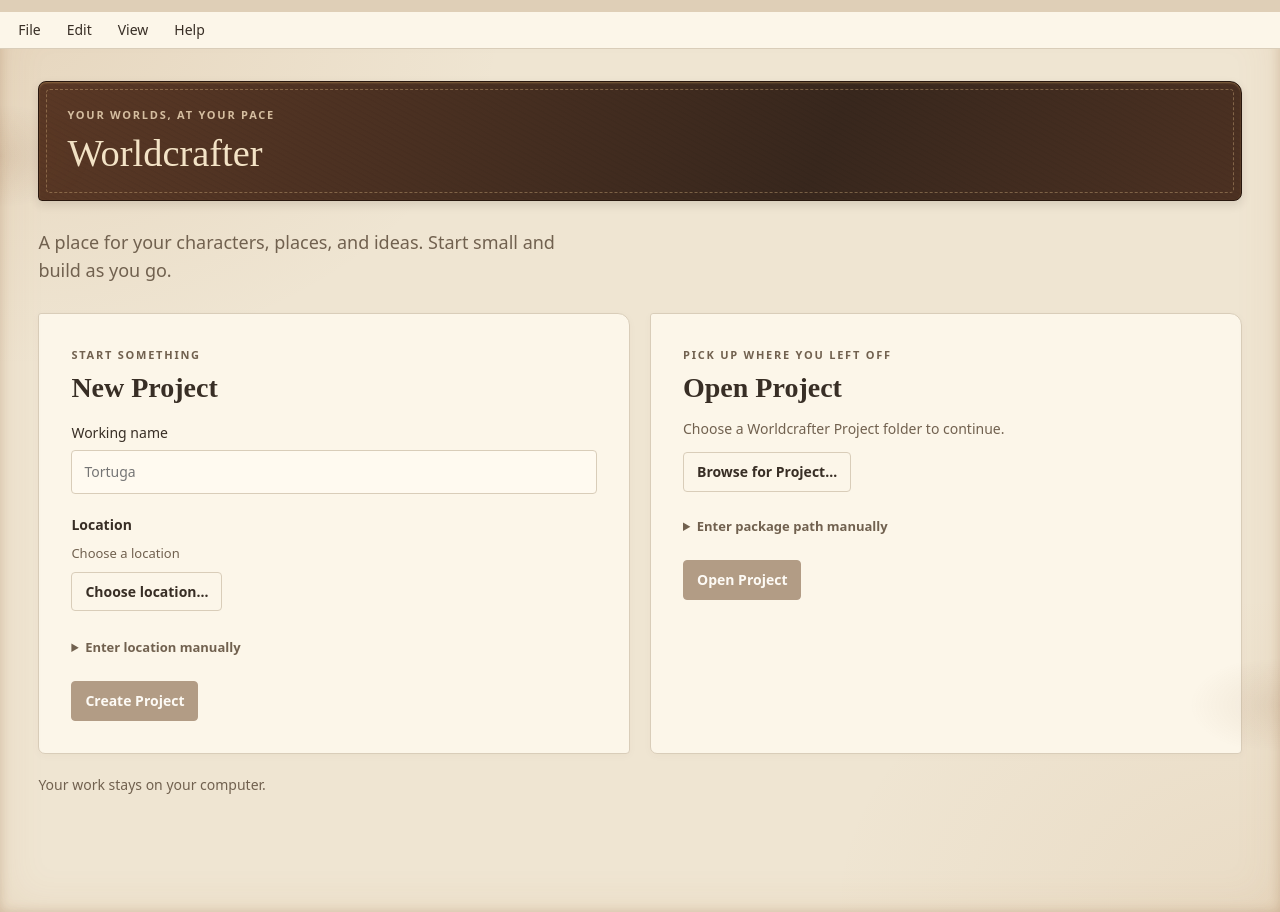
Scenario: Project screen Saved contract › keeps Close Project at the bottom of the menu, hidden until opened
Click the heading "Enter package path manually": (792, 526) [697,517,888,535]
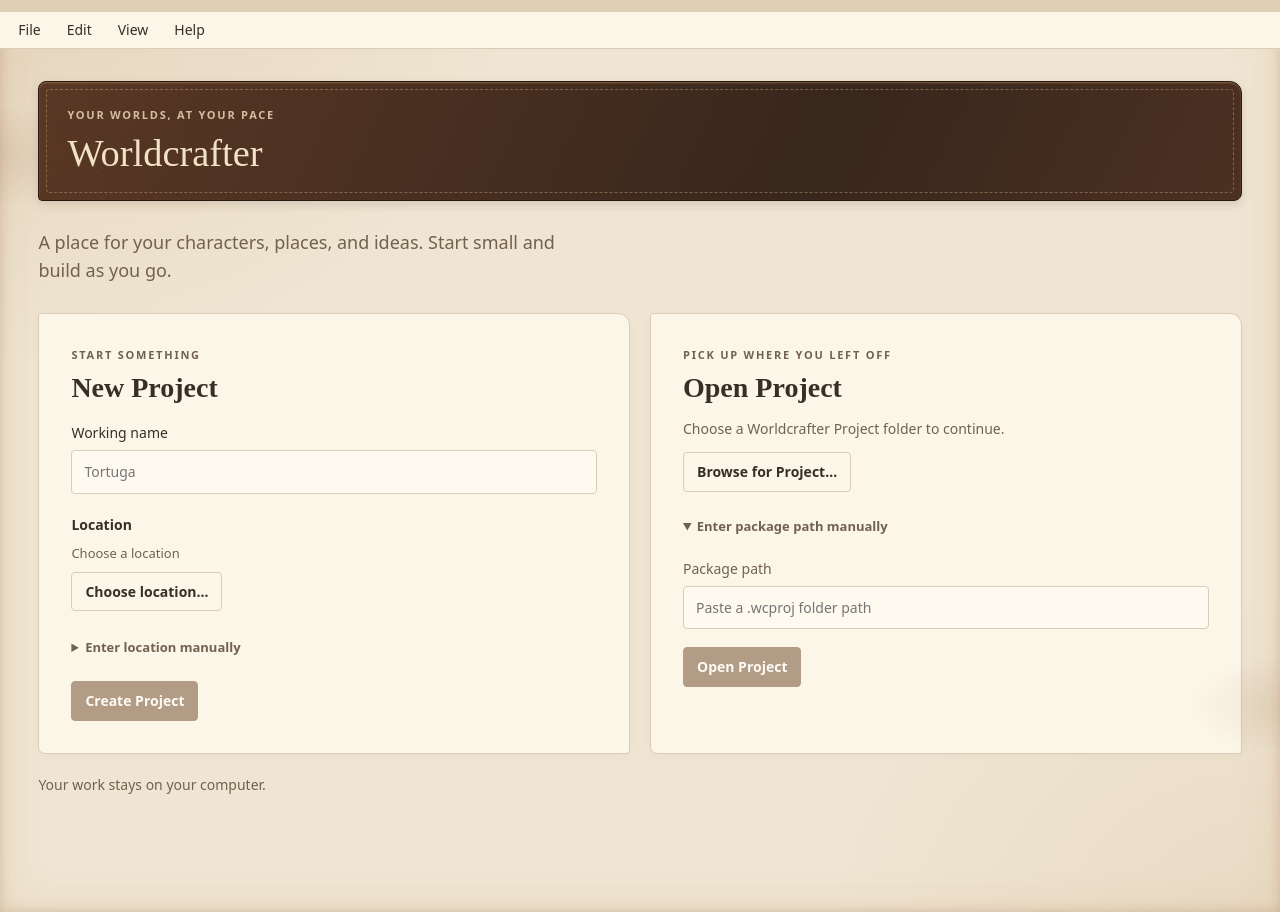
In the field named "open-project-path": (946, 607) [683,586,1209,629], type "/tmp/Tortuga.wcproj"
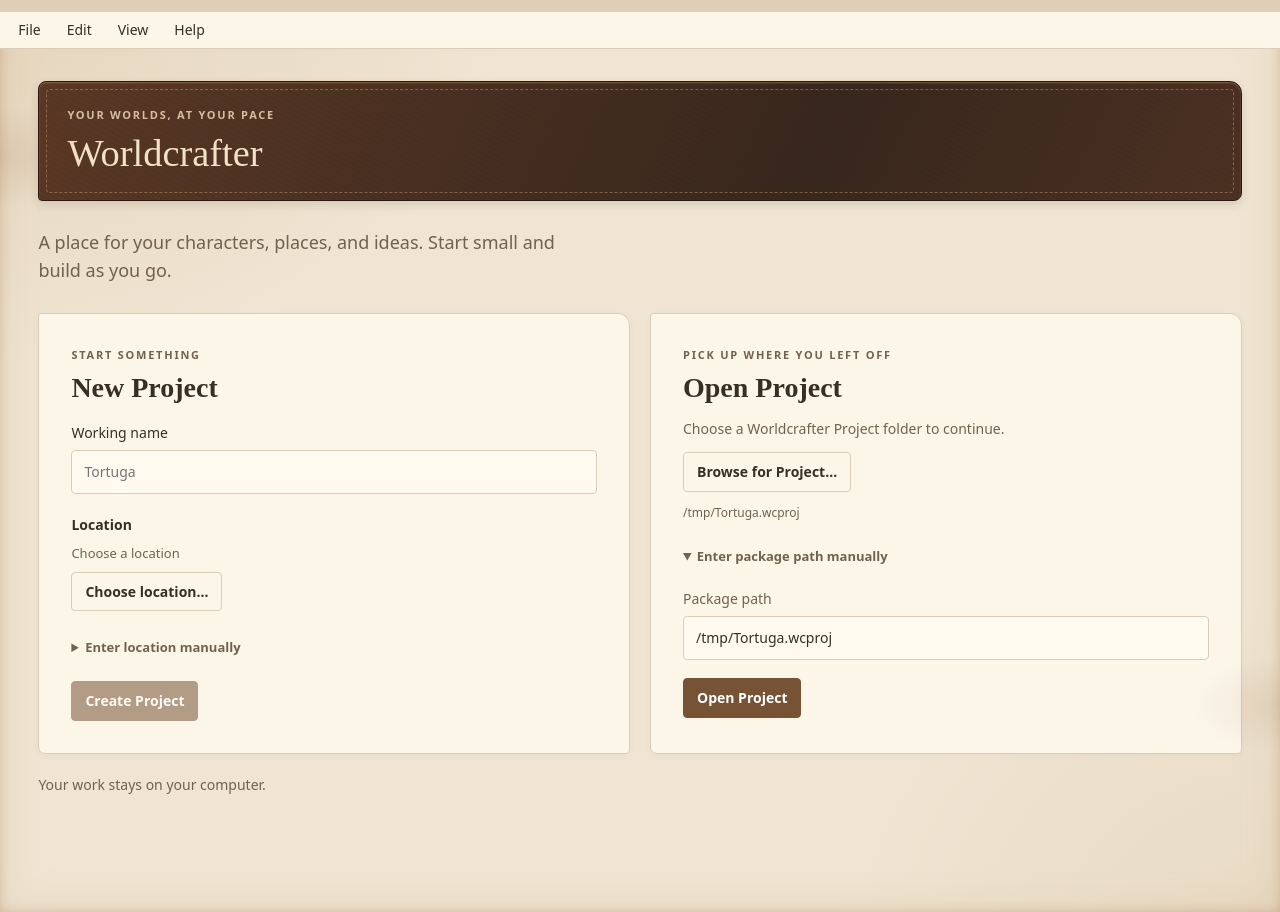
Click the button "Open Project": (742, 698) [683,678,802,718]
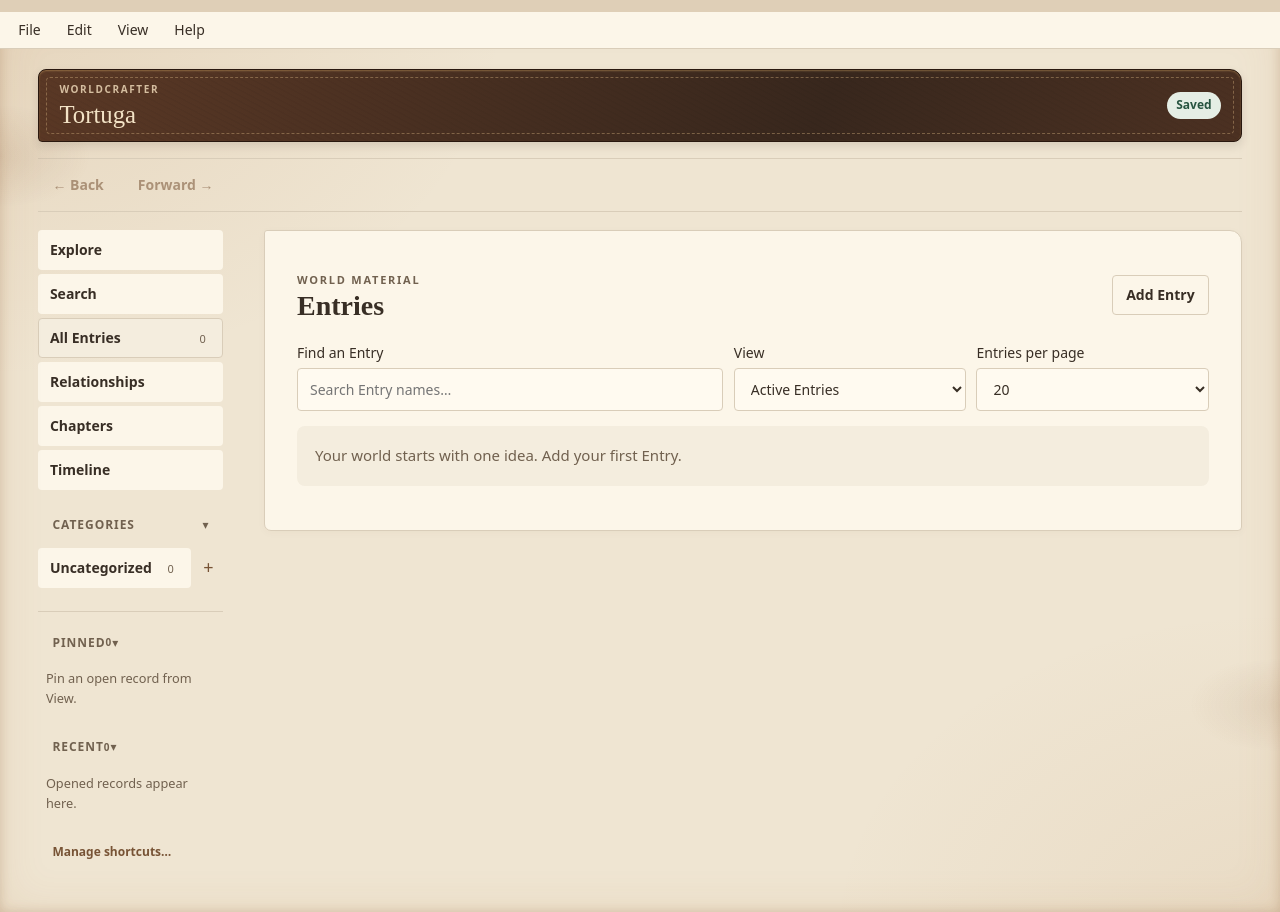
Expected: the menu item "Close Project" is not shown
Click the menu item "File": (29, 30) [6,15,53,45]
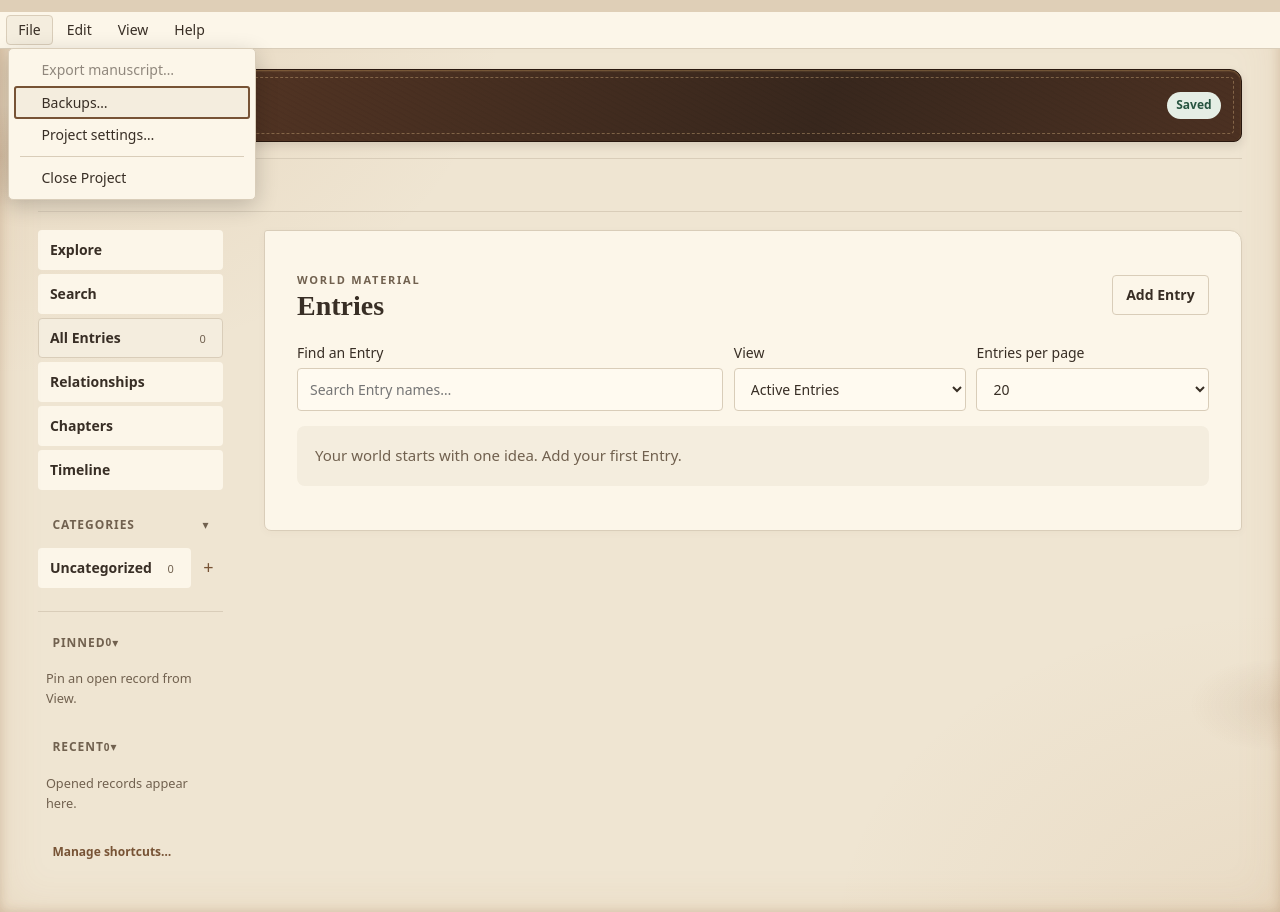
Now the menu item "Close Project" is shown, box [14,162,250,194]
